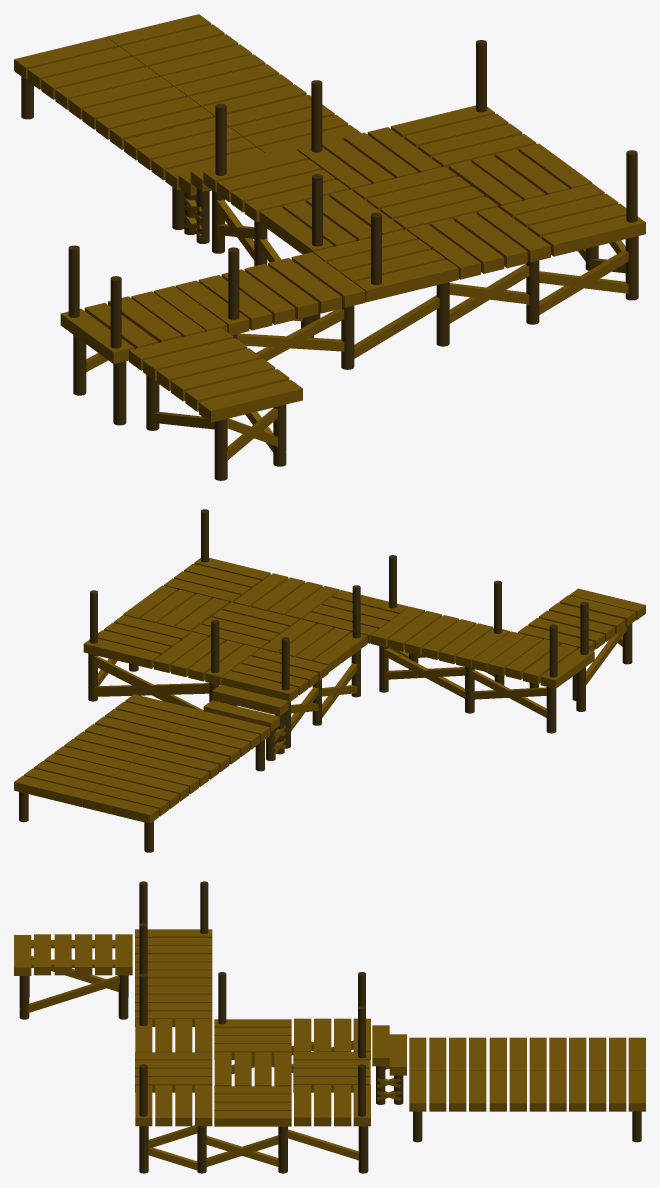
The model's file is Doc.fbx.
The picture shows the model from 3 angles, top to bottom: view 1: azimuth 30°, elevation 25°; view 2: azimuth 150°, elevation 25°; view 3: azimuth 270°, elevation 25°; orthographic projection. The views are drawn at different scales.
Visible parts, largest first — view 1: polySurface1; view 2: polySurface1; view 3: polySurface1.
Boxes of the visible parts, x1,y1,x2,y2 form: polySurface1: (14,14,645,480); polySurface1: (14,509,645,852); polySurface1: (14,881,645,1173).
Bounding box in the file's own units: 7.87 × 2.09 × 11.13.
